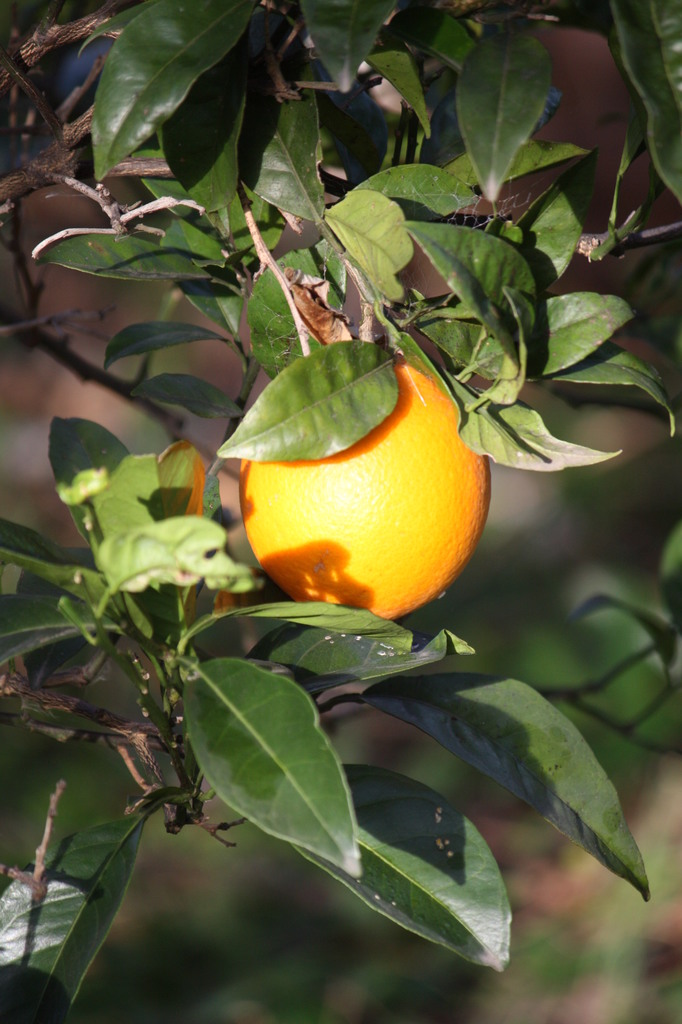Ripe: (225, 381, 496, 614)
